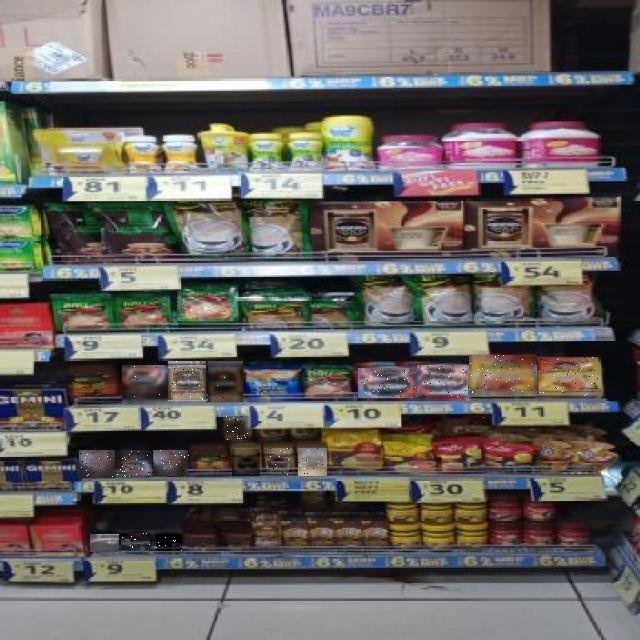Coffee: (469, 355, 537, 396), (537, 356, 600, 396), (123, 366, 169, 404), (358, 368, 416, 398), (417, 366, 468, 398), (169, 362, 207, 404), (208, 361, 243, 402), (117, 450, 153, 478), (79, 450, 115, 478), (154, 450, 190, 476), (298, 449, 327, 477), (232, 449, 260, 476), (266, 448, 292, 475), (226, 417, 250, 441), (90, 534, 119, 552), (121, 534, 150, 550), (156, 534, 182, 551)
